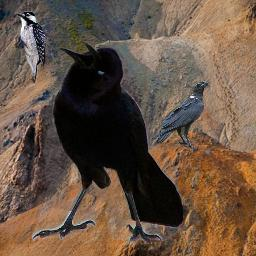Crow: (32, 40, 183, 244), (150, 80, 210, 149)
Woodpecker: (15, 11, 46, 83)
